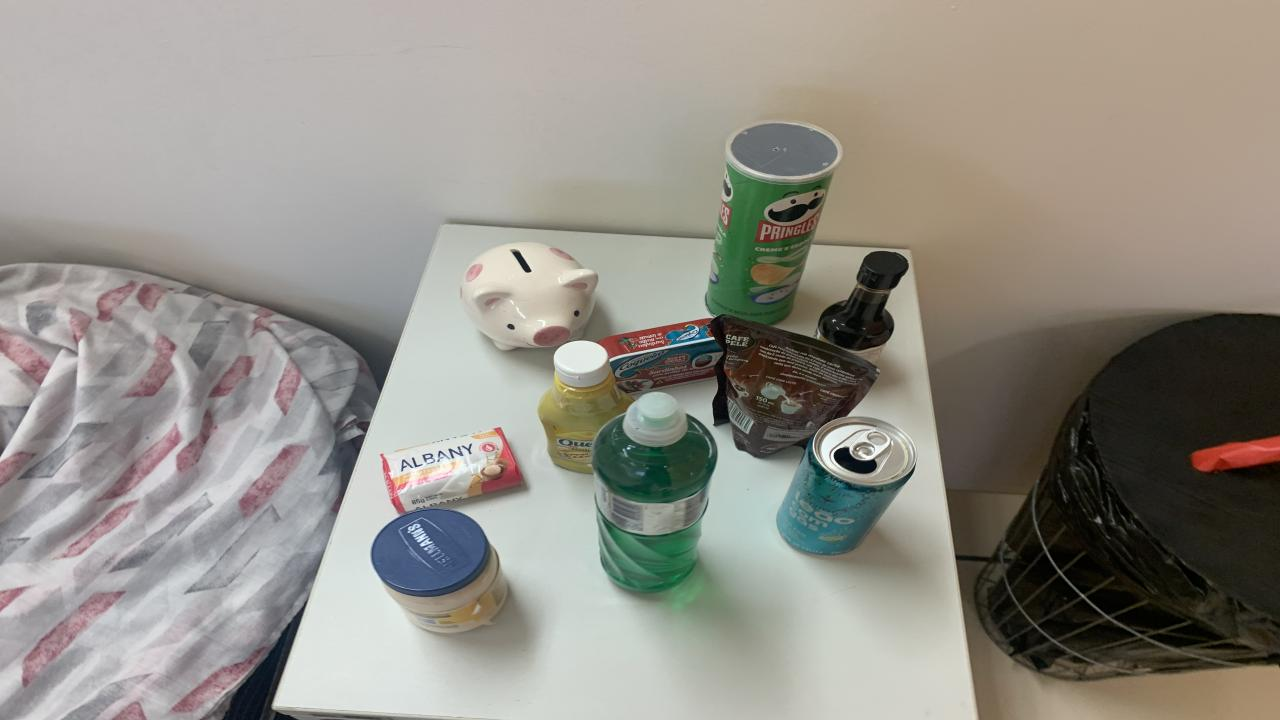Coffee-Pantry_Items: (710, 315, 878, 458)
Detergent-Cleanup_Items: (592, 392, 718, 592)
English_Sauce-Pantry_Items: (815, 251, 910, 364)
Mayonnaise-Pantry_Items: (370, 508, 508, 632)
Mustard-Pantry_Items: (538, 339, 632, 474)
Pig_Safe-Miscellaneous: (460, 242, 598, 351)
Pringles-Snacks: (705, 120, 842, 324)
Soap-Cleanup_Items: (380, 428, 522, 512)
Tea-Drinks: (778, 416, 918, 555)
Tuna_Can-Pantry_Items: (598, 319, 722, 396)
